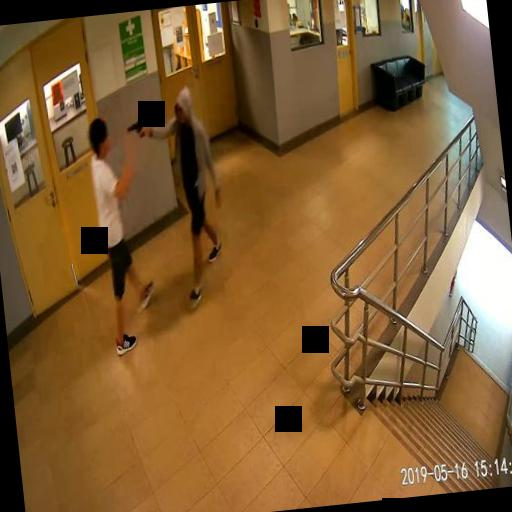Handgun: (125, 118, 144, 140)
